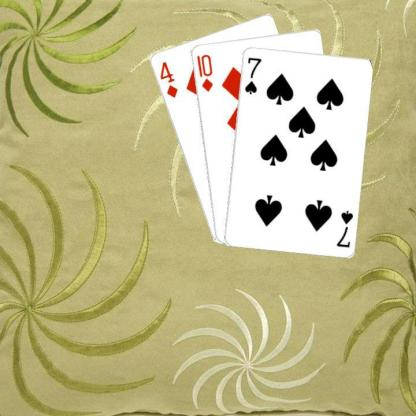10D: (193, 52, 214, 92)
4D: (157, 59, 179, 99)
7S: (242, 54, 262, 96), (334, 208, 354, 249)
